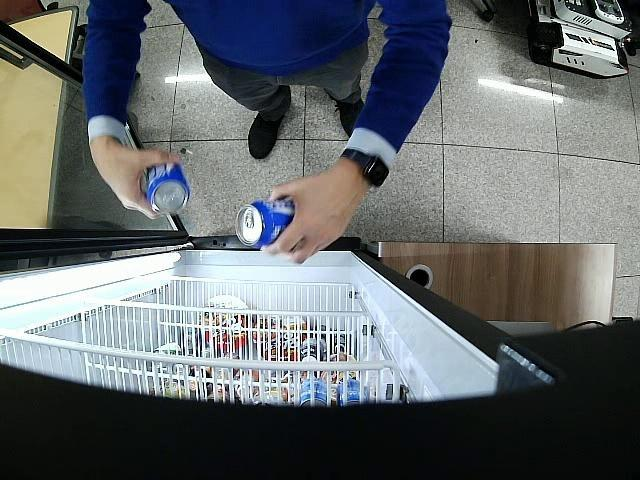13_pocariSweat: (234, 200, 294, 248), (146, 163, 188, 215)
